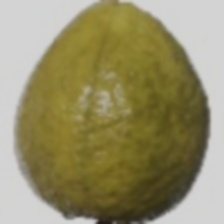guava: (10, 11, 190, 210)
